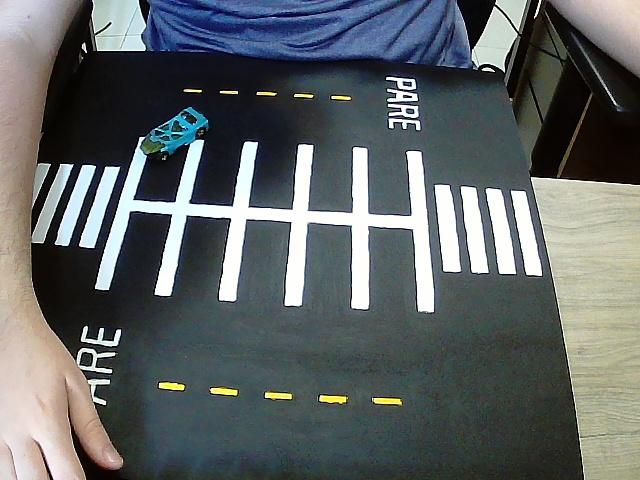Carro: (138, 107, 210, 163)
